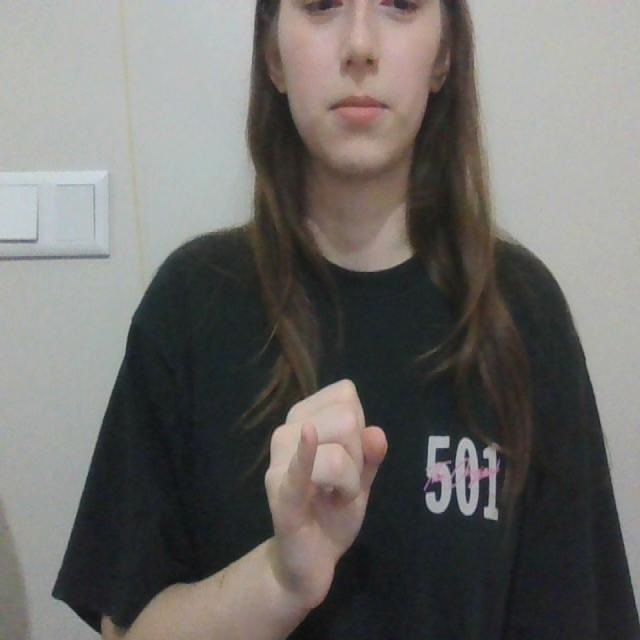kotu: (259, 372, 390, 541)
